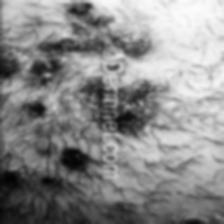Toxin: (64, 0, 150, 46), (120, 78, 180, 132), (1, 48, 78, 90), (84, 76, 100, 132), (26, 98, 56, 120), (60, 148, 91, 168), (1, 168, 20, 188), (37, 174, 57, 186)
